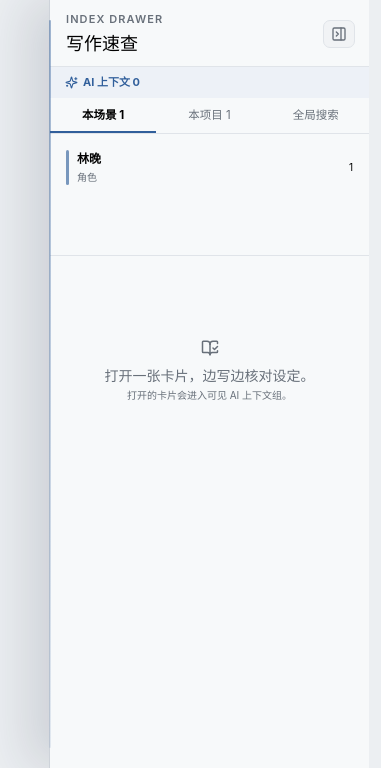
Test case: WritingQuickReferencePanel › 按本场景显示卡片，并在字段失焦 800ms 后自动保存且显示状态
Click the button "林晚 角色 1" at (68, 167), box [58, 142, 361, 193]
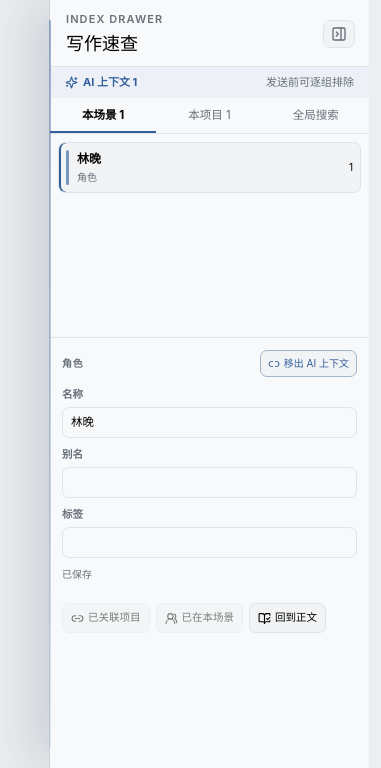
Replace the text in the field labelled "名称" with "林晚（修订）" at (210, 423), box [62, 407, 357, 438]
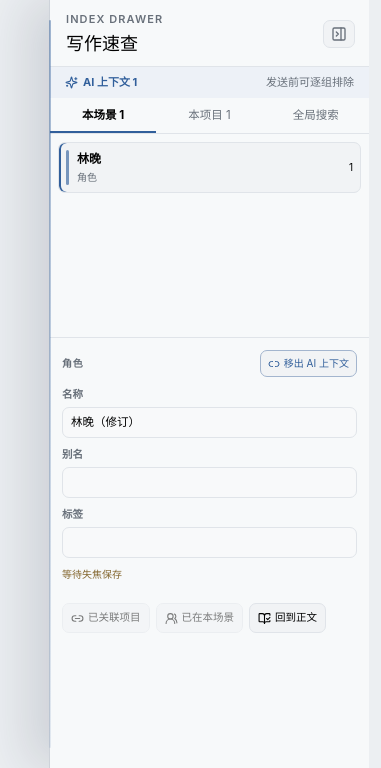
Expected: the text "等待失焦保存" is shown, [62, 568, 122, 580]
Leave the field labelled "名称", box [62, 407, 357, 438]
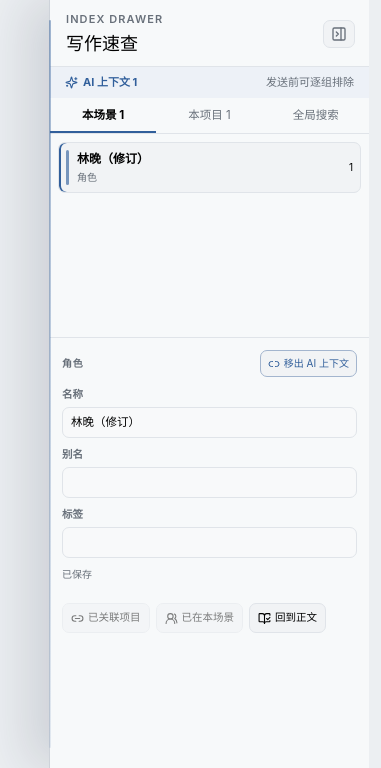
Expected: the text "已保存" is shown, [62, 568, 92, 580]
